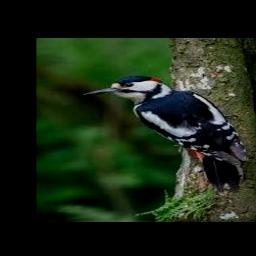Woodpecker: (83, 76, 250, 192)
